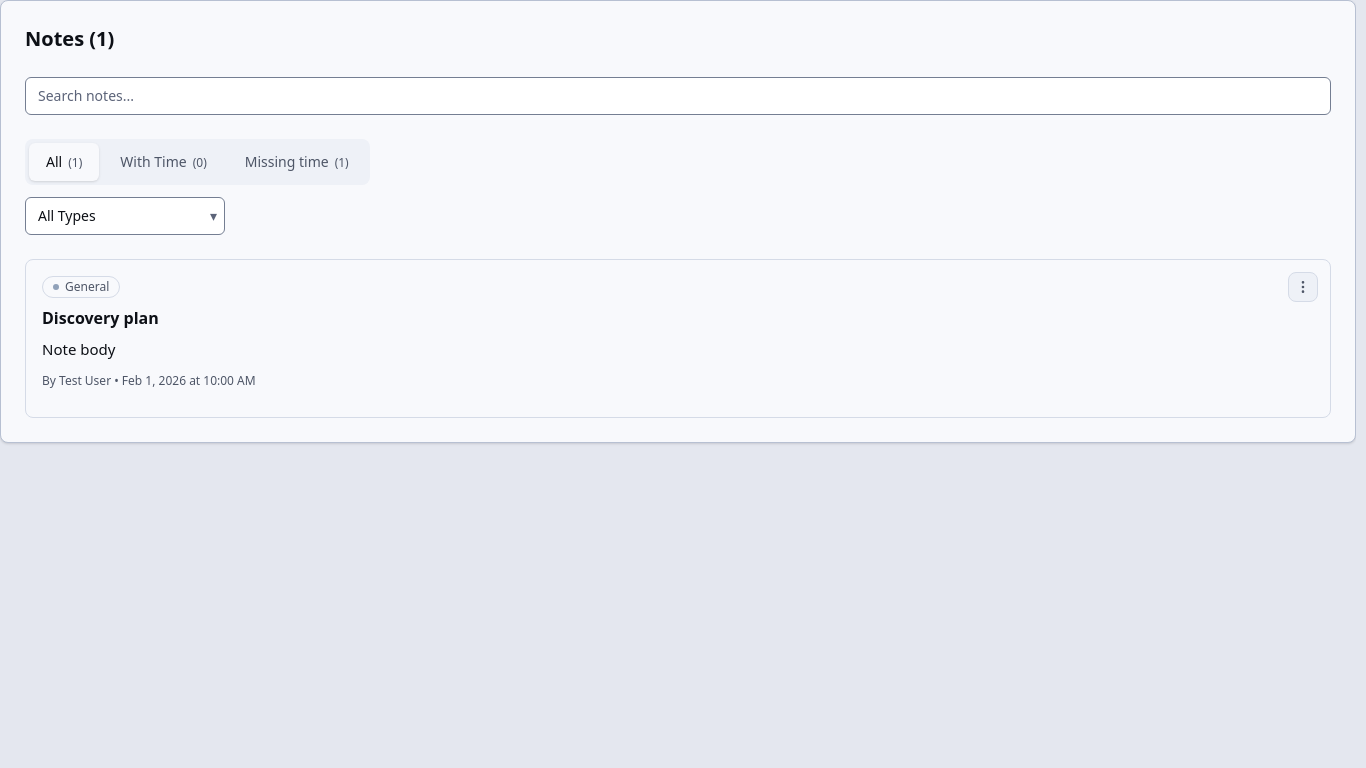
it: the note overflow menu › shows the error itself when pinning a matter note is refused
The width and height of the screenshot is (1366, 768).
Expected: the heading "Discovery plan" is shown, [42,307,159,329]
Click the button named "More actions". click: [1303, 287]
box: [1288,272,1318,302]
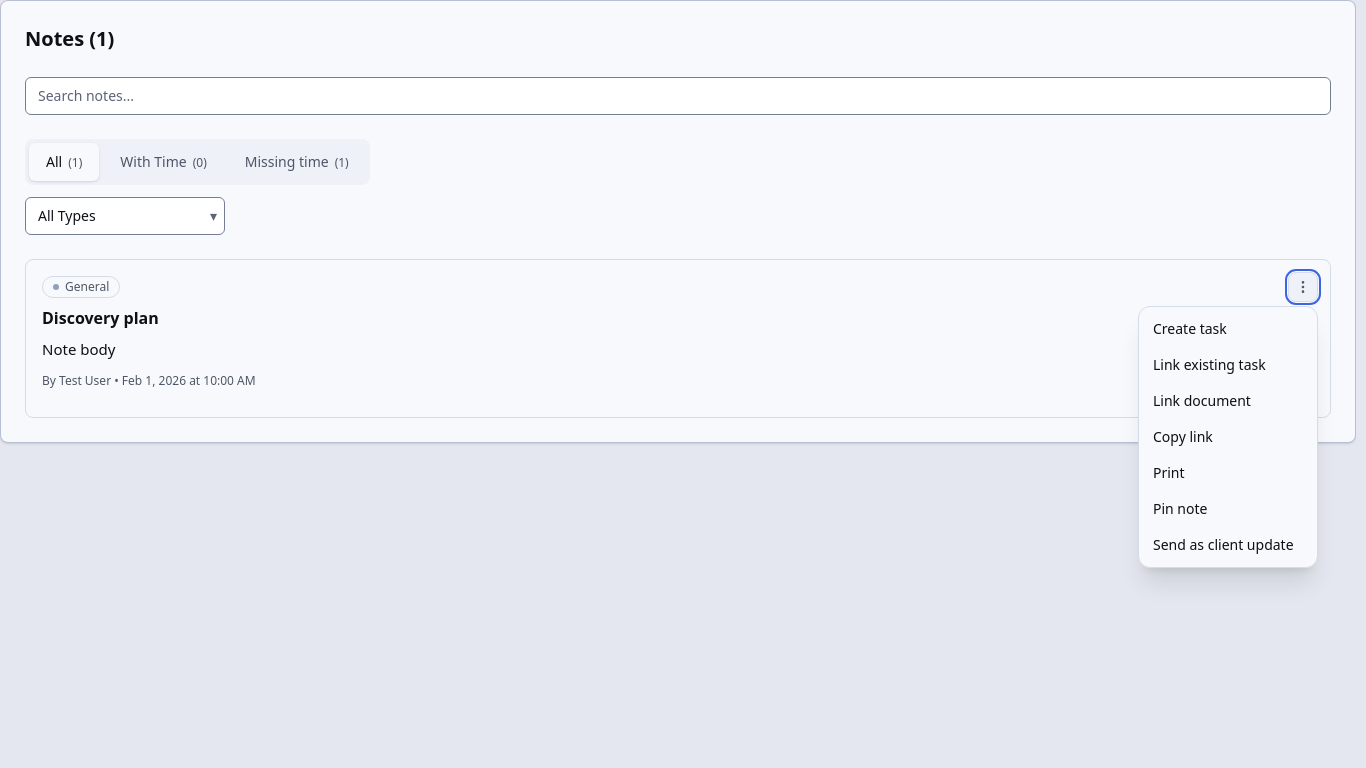
Click the button "Pin note". click: [1228, 509]
box: [1143,491,1313,527]
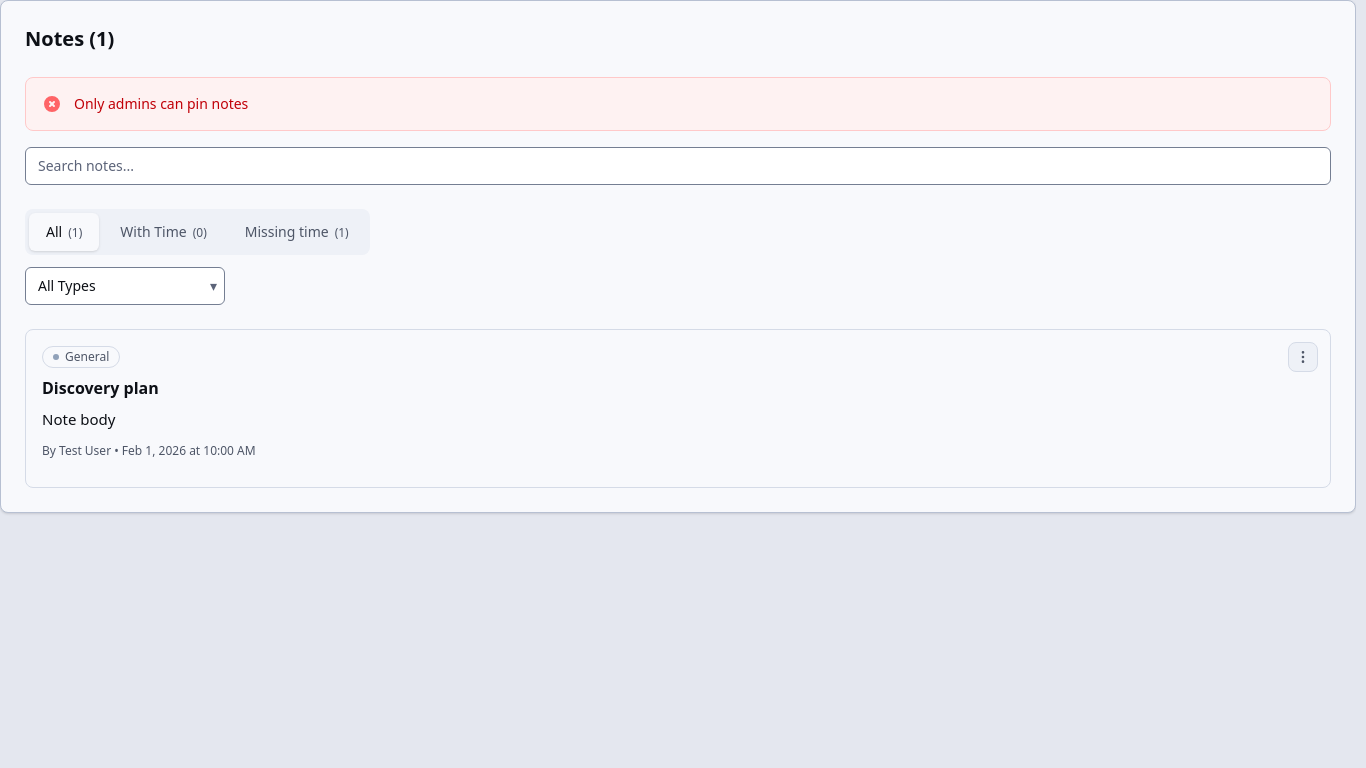
Now the message reads "Only admins can pin notes", box [74,94,248,113]
